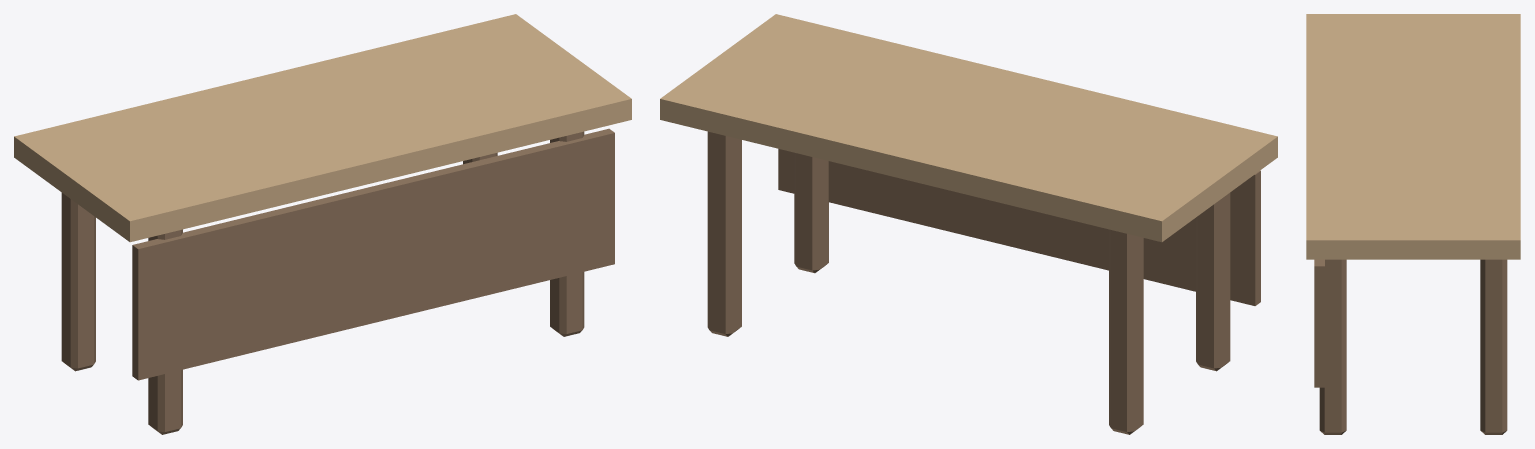
The model's file is market-stall-counter.glb.
The picture shows the model from 3 angles, left to right: view 1: azimuth 30°, elevation 25°; view 2: azimuth 150°, elevation 25°; view 3: azimuth 270°, elevation 25°; orthographic projection. The views are drawn at different scales.
Visible parts, largest first — view 1: market-stall-counter; view 2: market-stall-counter; view 3: market-stall-counter.
Boxes of the visible parts, box(x1,y1,x2,y2) form: market-stall-counter: box(14, 14, 631, 434); market-stall-counter: box(660, 14, 1277, 434); market-stall-counter: box(1306, 14, 1520, 434).
Bounding box in the file's own units: 2 × 0.8801 × 0.7999.
